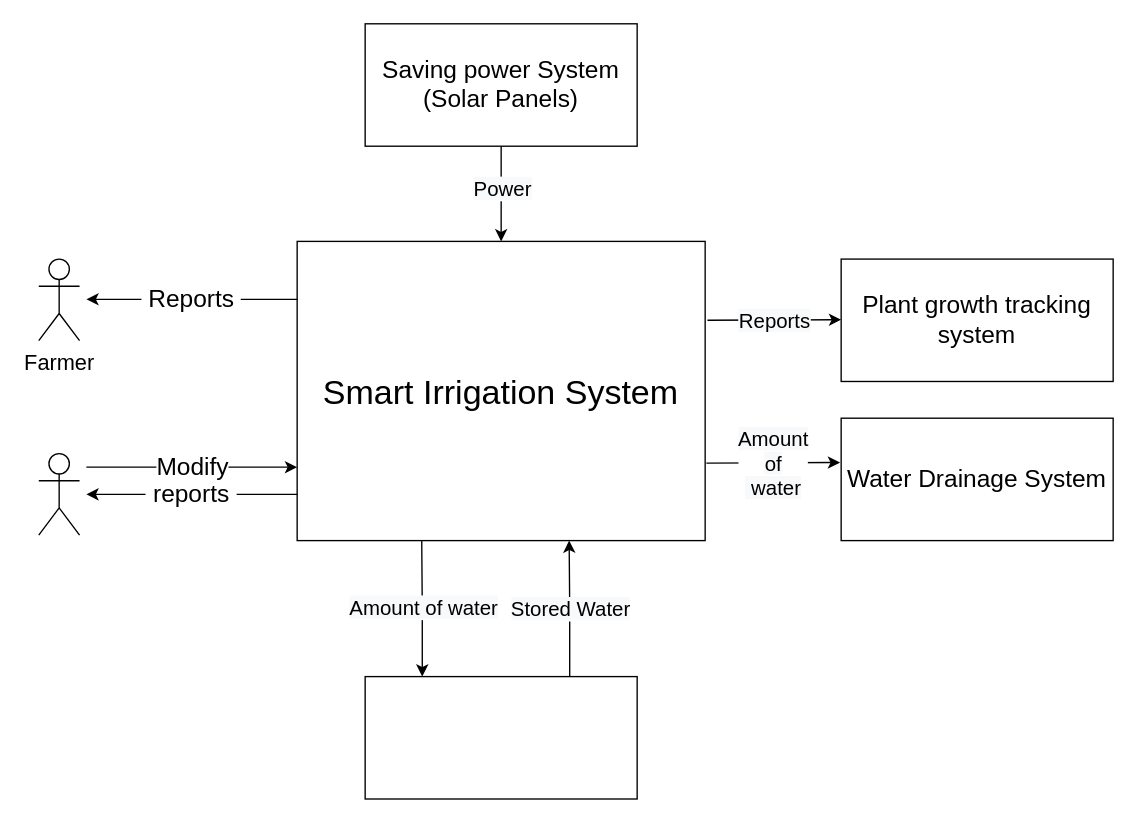
The diagram is 1137 pixels wide and 823 high, and some of its shapes have lost their labels. Each missing label, with the centre of its shape:
Analyst: pixel 58 493
Water Store System: pixel 500 737
